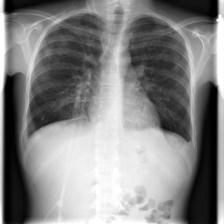normal: (22, 10, 196, 146)
